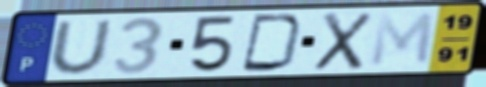3: (111, 15, 169, 76)
5: (185, 14, 241, 74)
D: (238, 12, 308, 73)
M: (367, 10, 437, 69)
U: (47, 18, 116, 76)
X: (311, 10, 377, 73)
